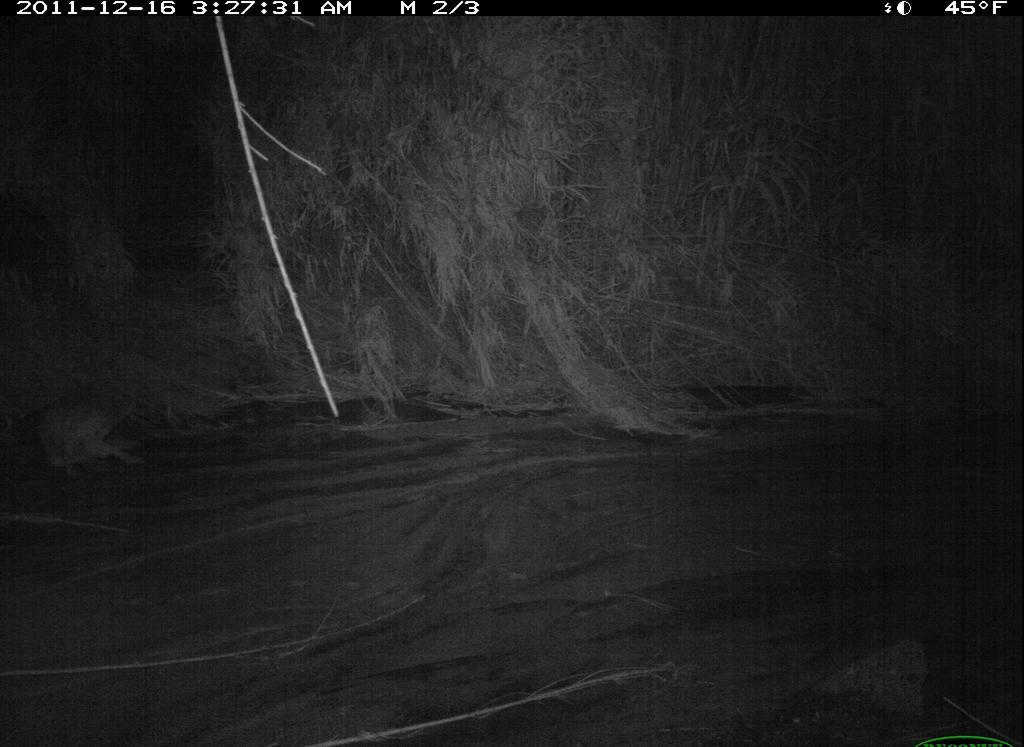coyote: (34, 379, 149, 481)
